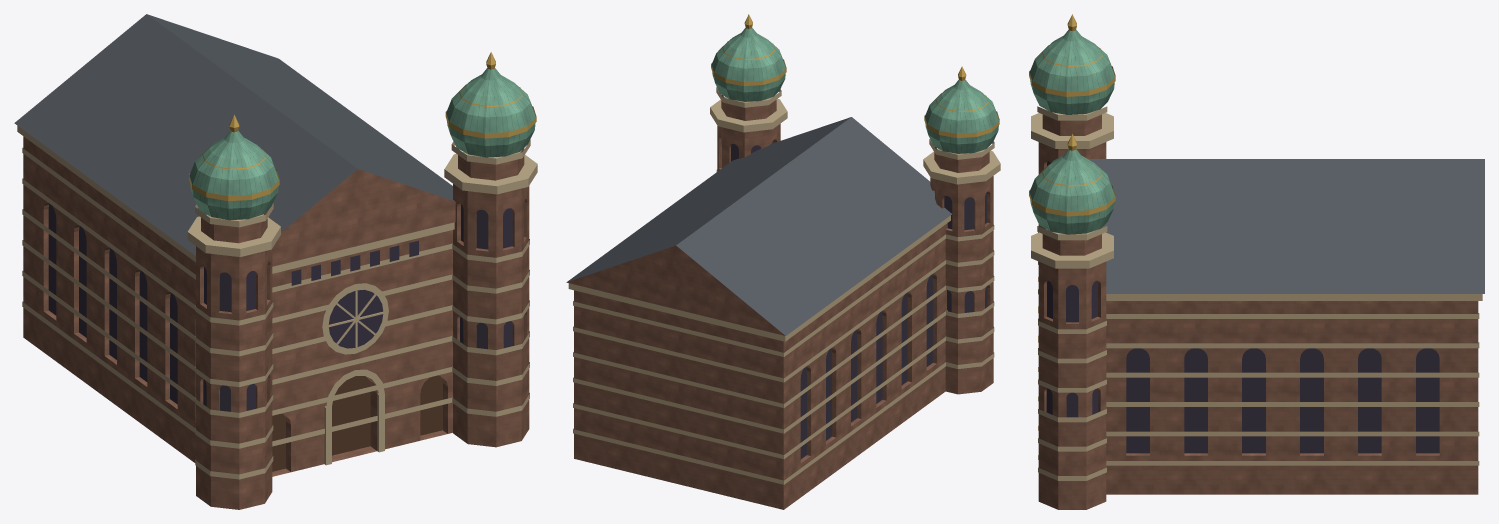
The model's file is central_synagogue.glb.
The picture shows the model from 3 angles, left to right: view 1: azimuth 30°, elevation 25°; view 2: azimuth 150°, elevation 25°; view 3: azimuth 270°, elevation 25°; orthographic projection. The views are drawn at different scales.
Visible parts, largest first — view 1: central_synagogue; view 2: central_synagogue; view 3: central_synagogue.
Part boxes in pixels (box(x1,y1,x2,y2)): central_synagogue: box(14, 14, 537, 509); central_synagogue: box(566, 14, 1000, 509); central_synagogue: box(1029, 14, 1484, 509).
Bounding box in the file's own units: 34.23 × 37 × 42.22.
Materials: 3 (3 with a texture image).
